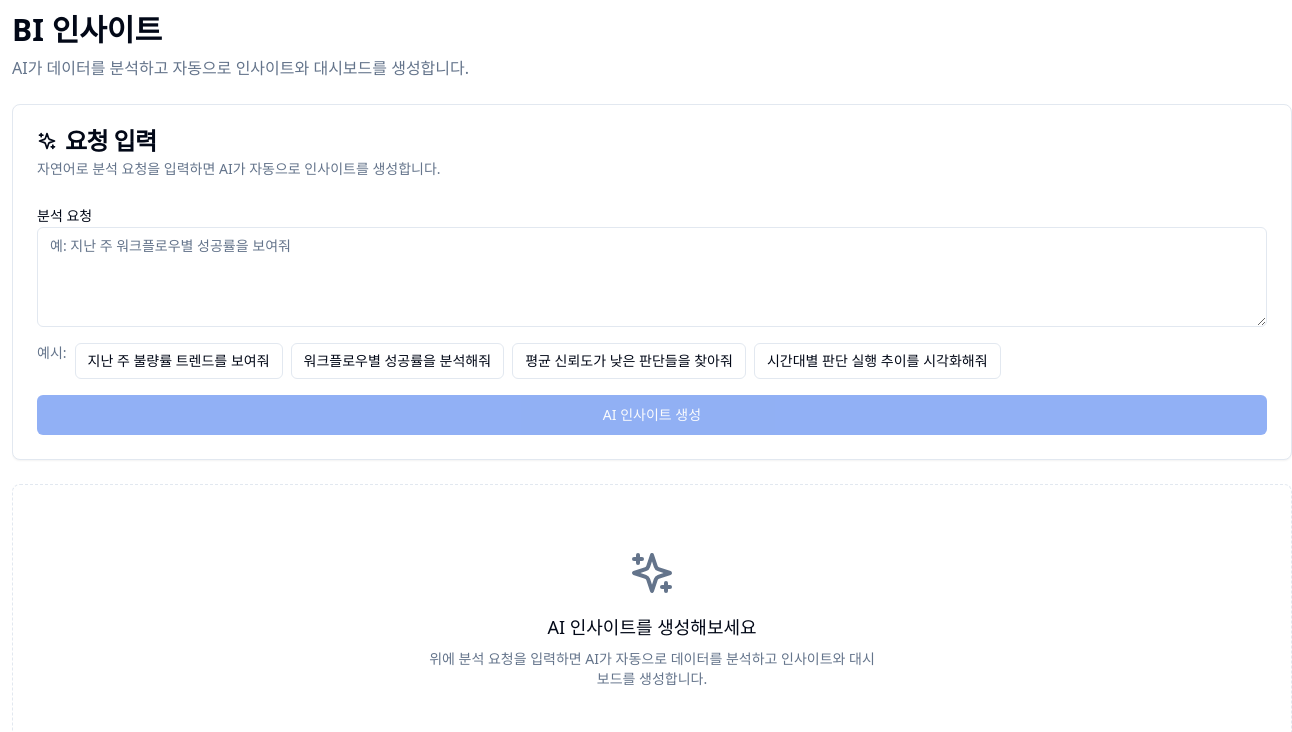
Scenario: BiInsights › Group 2: Example Buttons › 예시 버튼 클릭시 Textarea에 텍스트 입력
Click the button "지난 주 불량률 트렌드를 보여줘": (178, 361) [74,343,282,379]
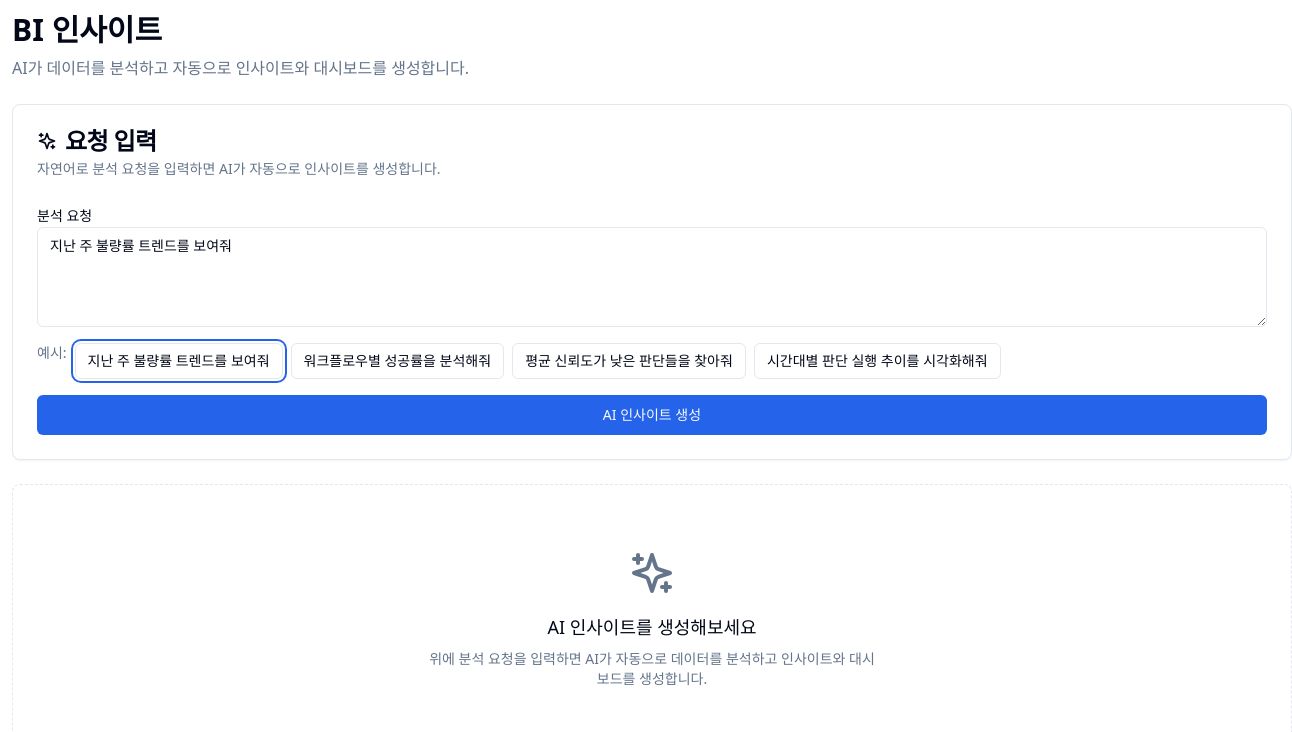
Expected: the text box holds "지난 주 불량률 트렌드를 보여줘", [37,227,1267,327]
